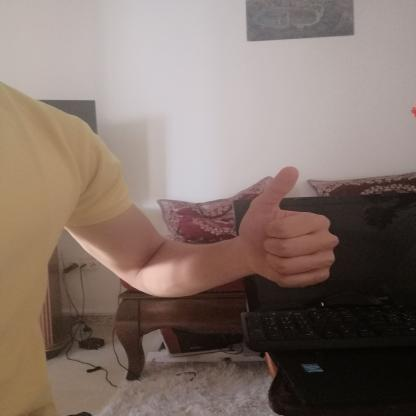ALIF: (220, 155, 348, 294)
